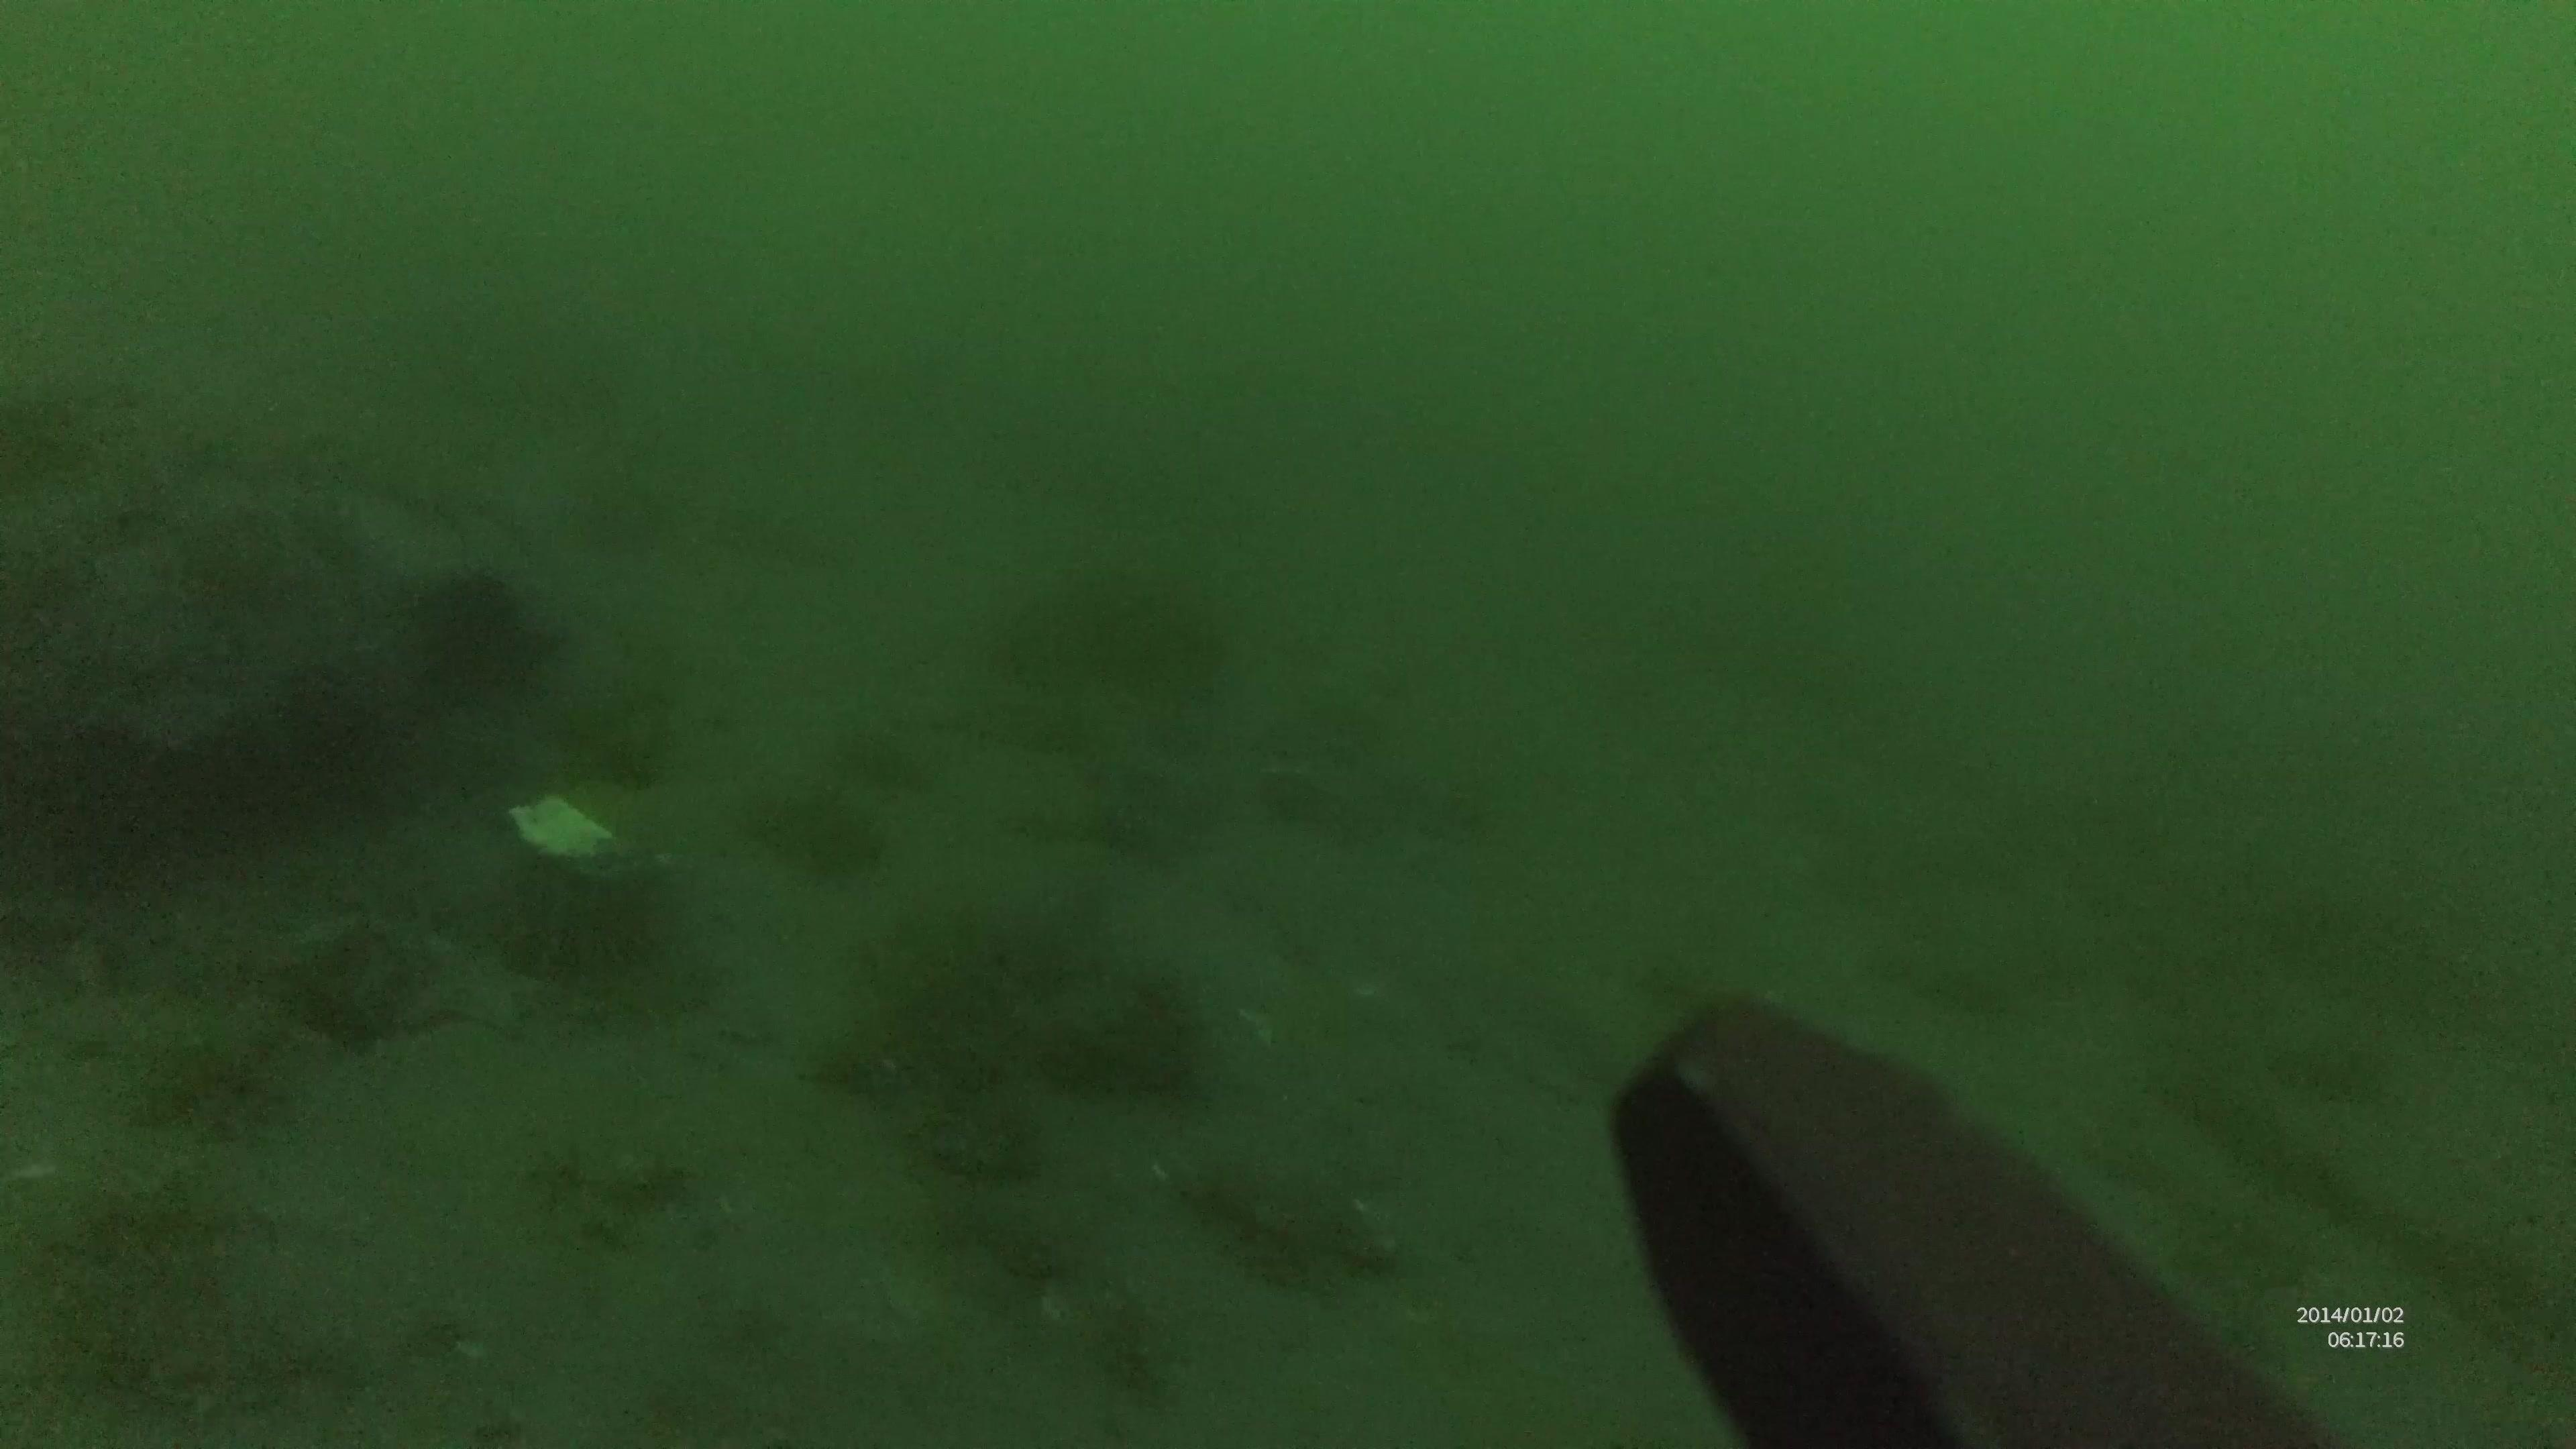echinus: (410, 566, 536, 683)
scallop: (492, 791, 665, 886)
starfish: (285, 904, 561, 1049)
